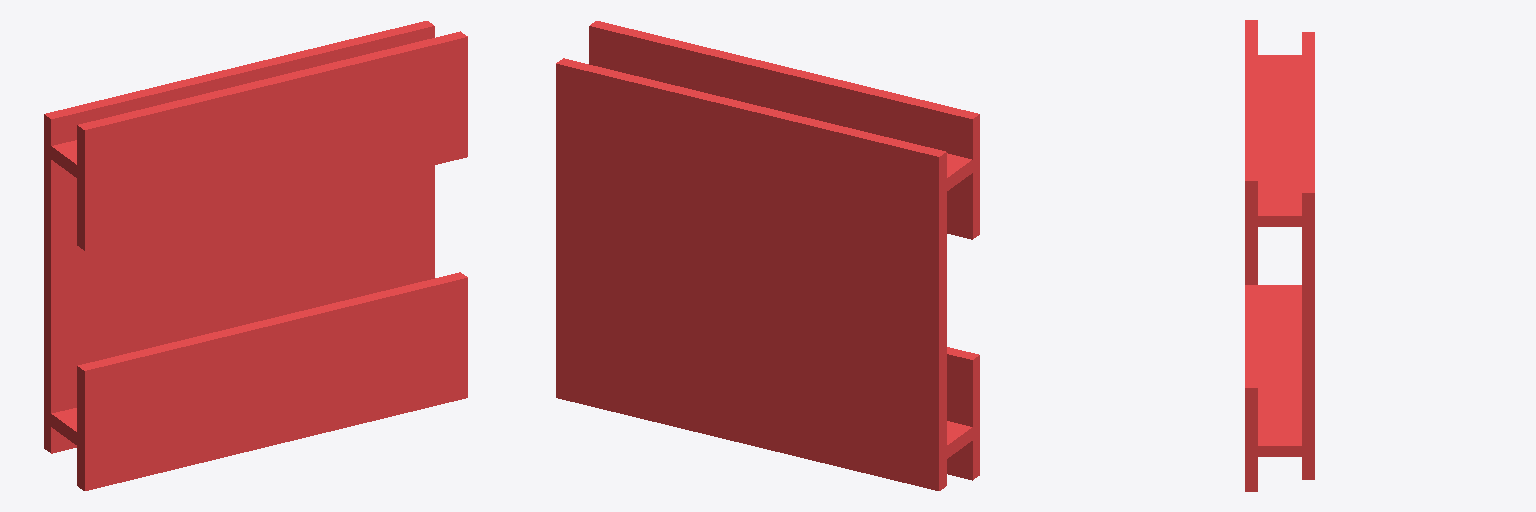
robot.urdf — box.urdf:
<?xml version="0.0" ?>
<robot name="box.urdf">

  <link name="baseLink">
    <contact>
      <lateral_friction value="1.0"/>
      <rolling_friction value="0.0001"/>
      <inertia_scaling value="3.0"/>
    </contact>
    <inertial>
      <origin rpy="0 0 0" xyz="0 0 0"/>
       <mass value=".01"/>
       <inertia ixx="1" ixy="0" ixz="0" iyy="1" iyz="0" izz="1"/>
    </inertial>
    <visual>
      <origin rpy="0 0 0" xyz="0 0 0"/>
      <geometry>
         <box size="0.3 0.01 0.25"/>
      </geometry>
      <material name="red">
        <color rgba="1 0.3412 0.3490 1"/>
      </material>
    </visual>
    <collision>
      <origin rpy="0 0 0" xyz="0 0 0"/>
      <geometry>
	 	    <box size="0.3 0.01 0.25"/>
      </geometry>
    </collision>
  </link>

  <link name="baseLink1">
    <contact>
      <lateral_friction value="1.0"/>
      <rolling_friction value="0.0001"/>
      <inertia_scaling value="3.0"/>
    </contact>
    <inertial>
      <origin rpy="0 0 0" xyz="0 0 0"/>
       <mass value=".01"/>
       <inertia ixx="1" ixy="0" ixz="0" iyy="1" iyz="0" izz="1"/>
    </inertial>
    <visual>
      <origin rpy="0 0 0" xyz="0 0 0"/>
      <geometry>
         <box size="0.3 0.01 0.05"/>
      </geometry>
      <material name="red">
        <color rgba="1 0.3412 0.3490 1"/>
      </material>
    </visual>
    <collision>
      <origin rpy="0 0 0" xyz="0 0 0"/>
      <geometry>
	 	    <box size="0.3 0.01 0.05"/>
      </geometry>
    </collision>
  </link>


  <link name="baseLink2">
    <contact>
      <lateral_friction value="1.0"/>
      <rolling_friction value="0.0001"/>
      <inertia_scaling value="3.0"/>
    </contact>
    <inertial>
      <origin rpy="0 0 0" xyz="0 0 0"/>
       <mass value=".01"/>
       <inertia ixx="1" ixy="0" ixz="0" iyy="1" iyz="0" izz="1"/>
    </inertial>
    <visual>
      <origin rpy="0 0 0" xyz="0 0 0"/>
      <geometry>
         <box size="0.3 0.01 0.05"/>
      </geometry>
      <material name="red">
        <color rgba="1 0.3412 0.3490 1"/>
      </material>
    </visual>
    <collision>
      <origin rpy="0 0 0" xyz="0 0 0"/>
      <geometry>
	 	    <box size="0.3 0.01 0.05"/>
      </geometry>
    </collision>
  </link>

  <link name="baseLink3">
    <contact>
      <lateral_friction value="1.0"/>
      <rolling_friction value="0.0001"/>
      <inertia_scaling value="3.0"/>
    </contact>
    <inertial>
      <origin rpy="0 0 0" xyz="0 0 0"/>
       <mass value=".01"/>
       <inertia ixx="1" ixy="0" ixz="0" iyy="1" iyz="0" izz="1"/>
    </inertial>
    <visual>
      <origin rpy="0 0 0" xyz="0 0 0"/>
      <geometry>
         <box size="0.3 0.01 0.09"/>
      </geometry>
      <material name="red">
        <color rgba="1 0.3412 0.3490 1"/>
      </material>
    </visual>
    <collision>
      <origin rpy="0 0 0" xyz="0 0 0"/>
      <geometry>
	 	    <box size="0.3 0.01 0.09"/>
      </geometry>
    </collision>
  </link>

  <link name="baseLink4">
    <contact>
      <lateral_friction value="1.0"/>
      <rolling_friction value="0.0001"/>
      <inertia_scaling value="3.0"/>
    </contact>
    <inertial>
      <origin rpy="0 0 0" xyz="0 0 0"/>
       <mass value=".01"/>
       <inertia ixx="1" ixy="0" ixz="0" iyy="1" iyz="0" izz="1"/>
    </inertial>
    <visual>
      <origin rpy="0 0 0" xyz="0 0 0"/>
      <geometry>
         <box size="0.3 0.01 0.09"/>
      </geometry>
      <material name="red">
        <color rgba="1 0.3412 0.3490 1"/>
      </material>
    </visual>
    <collision>
      <origin rpy="0 0 0" xyz="0 0 0"/>
      <geometry>
	 	    <box size="0.3 0.01 0.09"/>
      </geometry>
    </collision>
  </link>

  <joint name="base_joint" type="fixed">
    <origin rpy="-1.57079632679 0 0" xyz="0 -0.025 0.1"/>
    <parent link="baseLink"/>
    <child link="baseLink1"/>
    <axis xyz="0 0 1"/>
  </joint>

  <joint name="base_joint1" type="fixed">
    <origin rpy="-1.57079632679 0 0" xyz="0 -0.025 -0.1"/>
    <parent link="baseLink"/>
    <child link="baseLink2"/>
    <axis xyz="0 0 1"/>
  </joint>

  <joint name="base_joint2" type="fixed">
    <origin rpy="-1.57079632679 0 0" xyz="0 0.01 -0.02"/>
    <parent link="baseLink1"/>
    <child link="baseLink3"/>
    <axis xyz="0 0 1"/>
  </joint>

  <joint name="base_joint3" type="fixed">
    <origin rpy="-1.57079632679 0 0" xyz="0 -0.01 -0.02"/>
    <parent link="baseLink2"/>
    <child link="baseLink4"/>
    <axis xyz="0 0 1"/>
  </joint>

</robot>

--- Facts derived from the render (not from the file) ---
Views: 3 orthographic renders of the robot side by side, from view 1: azimuth 30°, elevation 25°; view 2: azimuth 150°, elevation 25°; view 3: azimuth 270°, elevation 25°.
Robot: box.urdf — 5 links, 4 joints (4 fixed); root link baseLink; default pose: every joint at zero.
Links seen in each view (by area): view 1: baseLink, baseLink4, baseLink3, baseLink1, baseLink2; view 2: baseLink, baseLink3, baseLink4, baseLink1, baseLink2; view 3: baseLink1, baseLink2, baseLink, baseLink3, baseLink4.
Boxes of the visible links, x1,y1,x2,y2 form: baseLink: (44, 21, 434, 453); baseLink4: (77, 272, 467, 490); baseLink3: (77, 31, 467, 250); baseLink1: (48, 80, 467, 183); baseLink2: (48, 345, 467, 450); baseLink: (556, 58, 946, 490); baseLink3: (589, 21, 979, 239); baseLink4: (947, 347, 979, 480); baseLink1: (943, 153, 979, 193); baseLink2: (943, 421, 979, 461); baseLink1: (1245, 55, 1308, 226); baseLink2: (1245, 285, 1308, 456); baseLink: (1302, 32, 1314, 479); baseLink3: (1245, 20, 1257, 284); baseLink4: (1245, 285, 1257, 491).
Bounding box of the posed robot: 0.3 × 0.055 × 0.27 m (x, y, z).
Geometry: primitives only (box / cylinder / sphere), no mesh files.